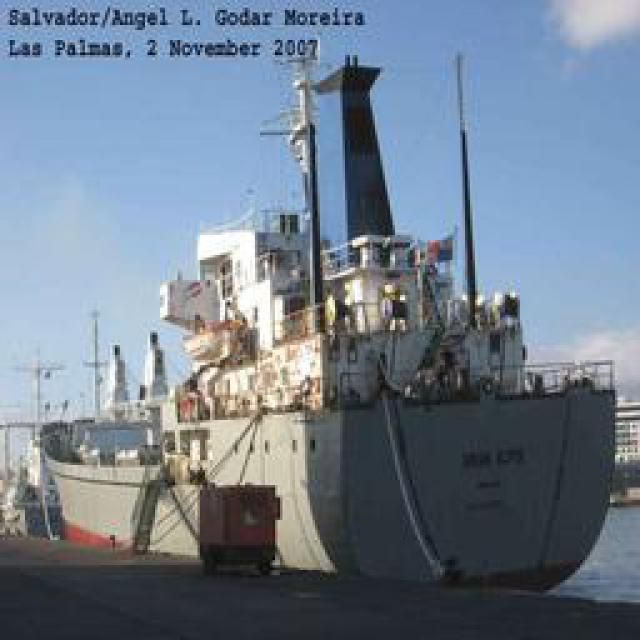Ship: (57, 54, 625, 587)
